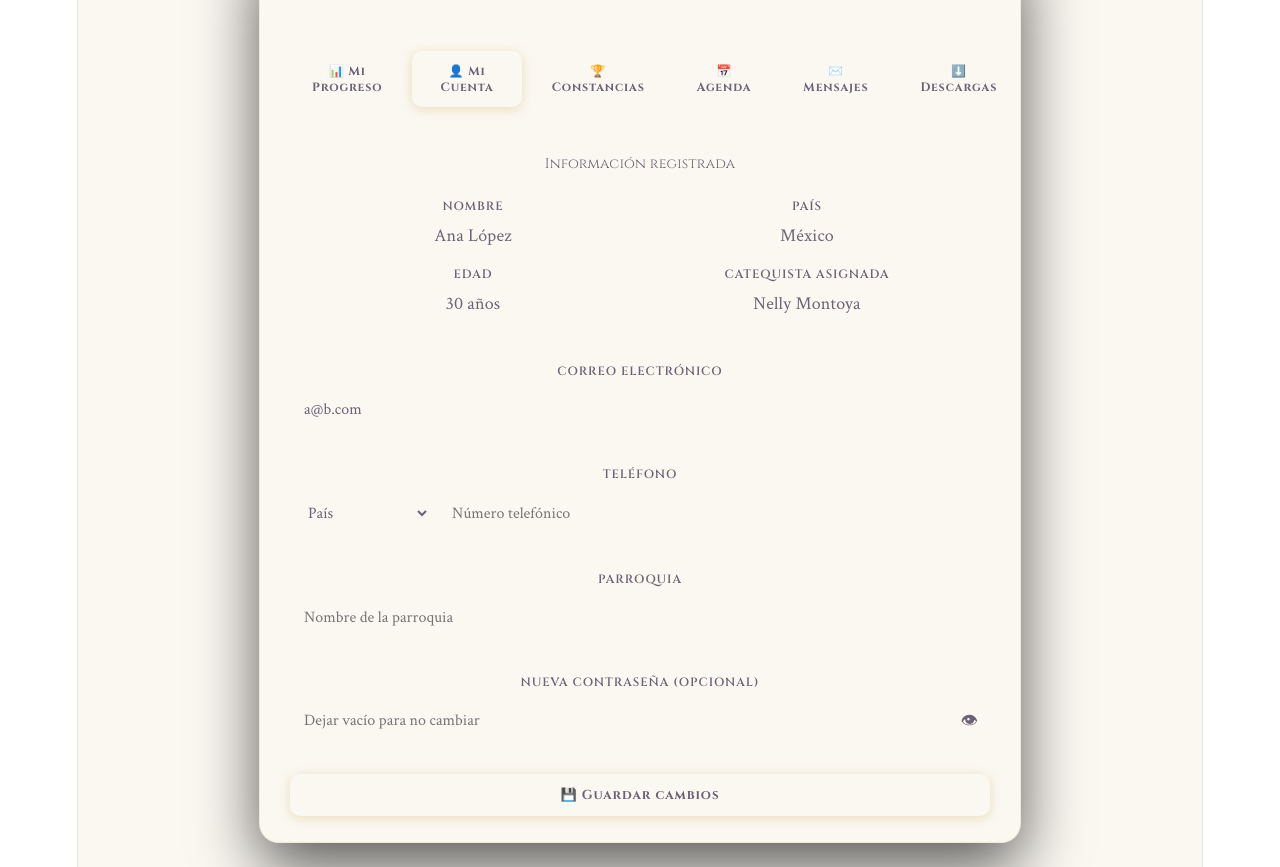
Dashboard › muestra el aviso de confirmación cuando cambia el correo de login
(page scrolled)
Click the button "💾 Guardar cambios" at (640, 795), box [290, 774, 990, 816]
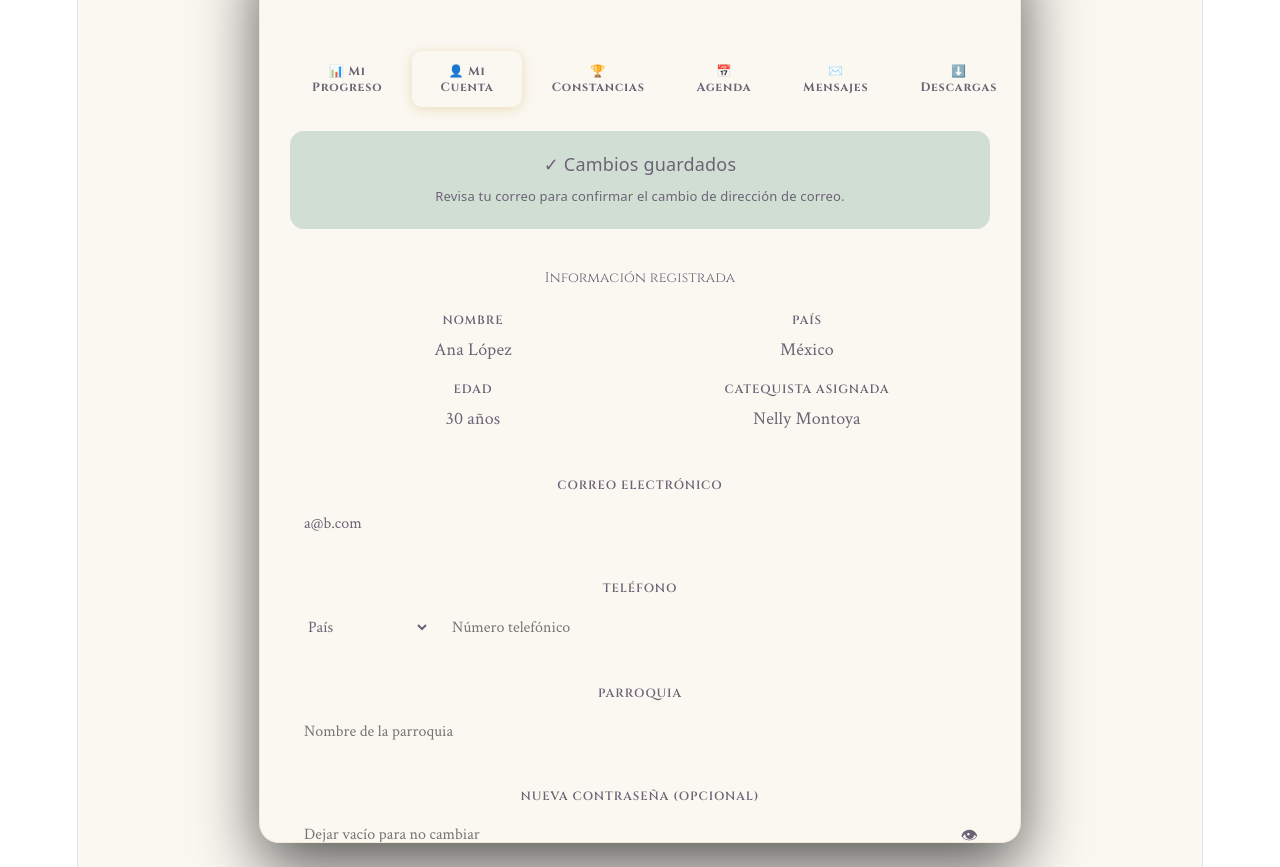
expect the text "Revisa tu correo para confirmar" is shown: met, box [435, 187, 845, 205]
